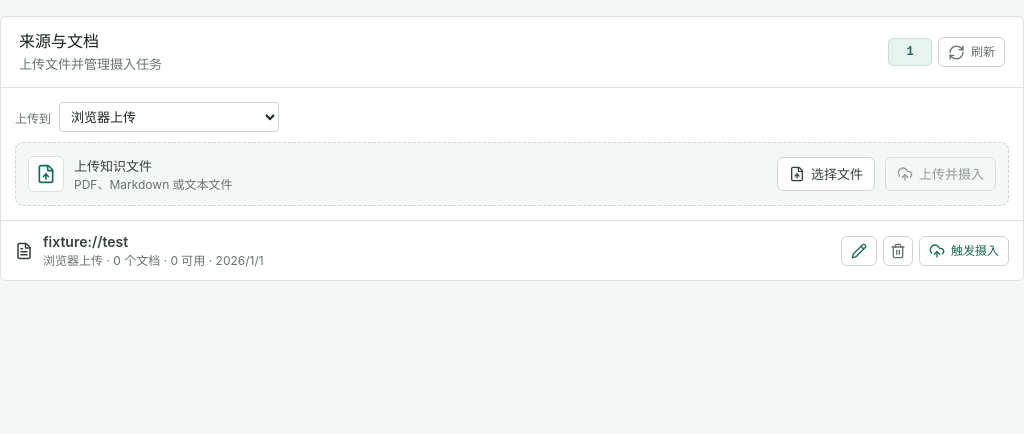
Test: SourcesPanel task controls › deletes a document through the source detail action
What coordinates should you click on to do the following:
click the text "fixture://test"
I would click on:
 (86, 242)
Its box is left=43, top=233, right=128, bottom=250.
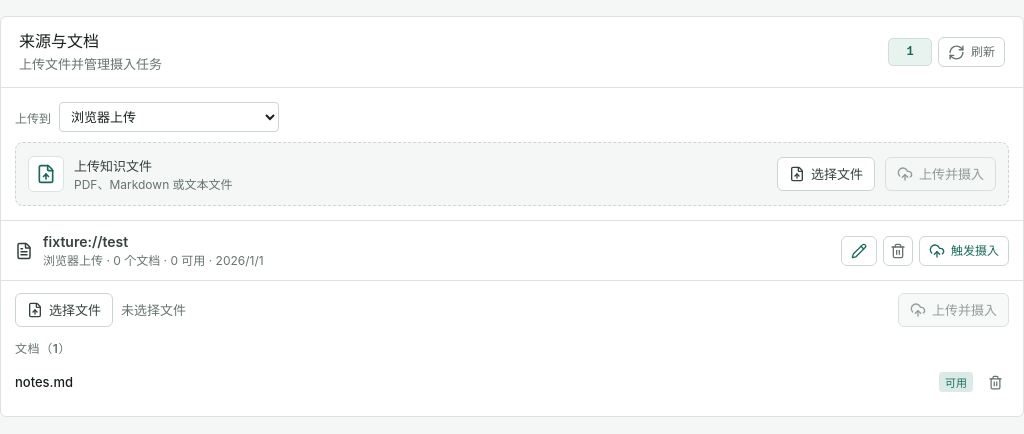
What coordinates should you click on to do the following:
click the button named "删除文档：notes.md"
I would click on:
 (995, 382)
Its box is left=981, top=368, right=1009, bottom=396.
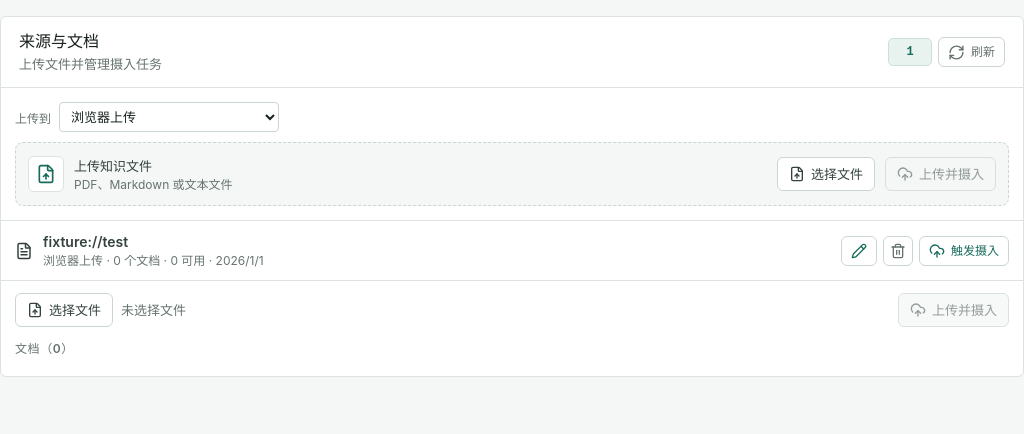
expect the text "notes.md" is gone: met
expect the heading "文档（0）" is shown: met, box left=15, top=341, right=74, bottom=356
